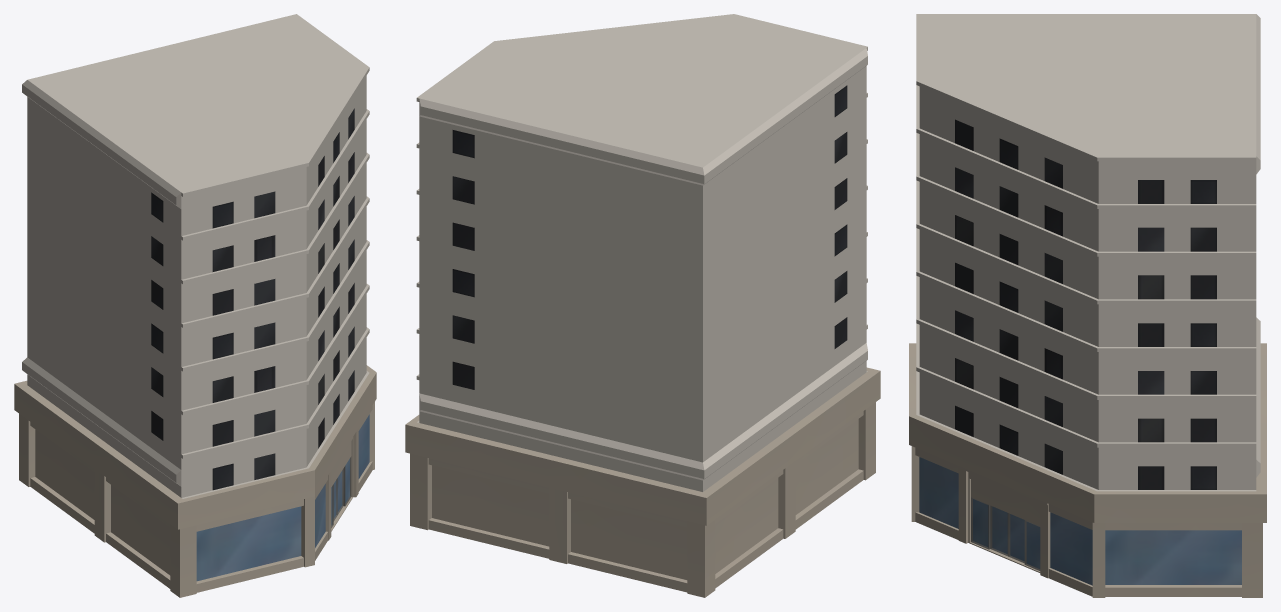
File: Bld_Building_GA.fbx
3 views of the same model, side by side, from view 1: azimuth 30°, elevation 25°; view 2: azimuth 150°, elevation 25°; view 3: azimuth 270°, elevation 25° (orthographic). The views are drawn at different scales.
Parts seen in each view (by area): view 1: Bld_Building_GA; view 2: Bld_Building_GA; view 3: Bld_Building_GA.
Part boxes in pixels (left/top/right/bottom): Bld_Building_GA: left=14, top=14, right=376, bottom=597; Bld_Building_GA: left=405, top=14, right=880, bottom=597; Bld_Building_GA: left=909, top=14, right=1266, bottom=597.
Bounding box in the file's own units: 1700 × 2300 × 1700.
